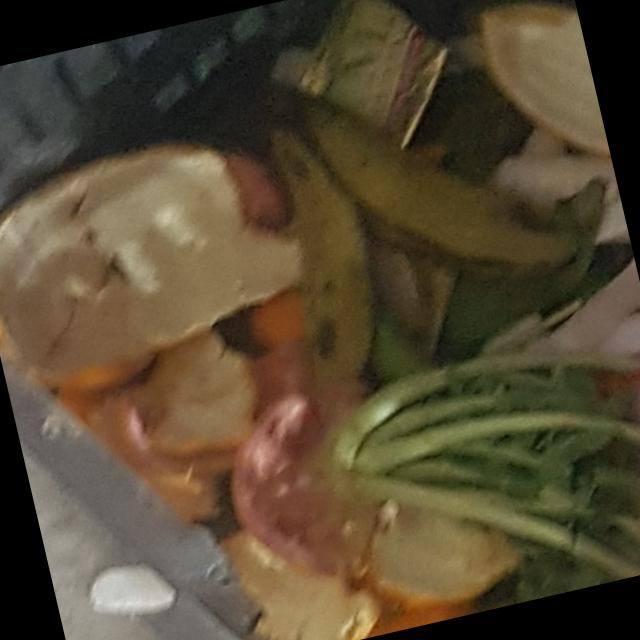paper: (276, 309, 640, 627), (0, 108, 302, 408), (288, 35, 606, 314), (458, 0, 612, 191)
